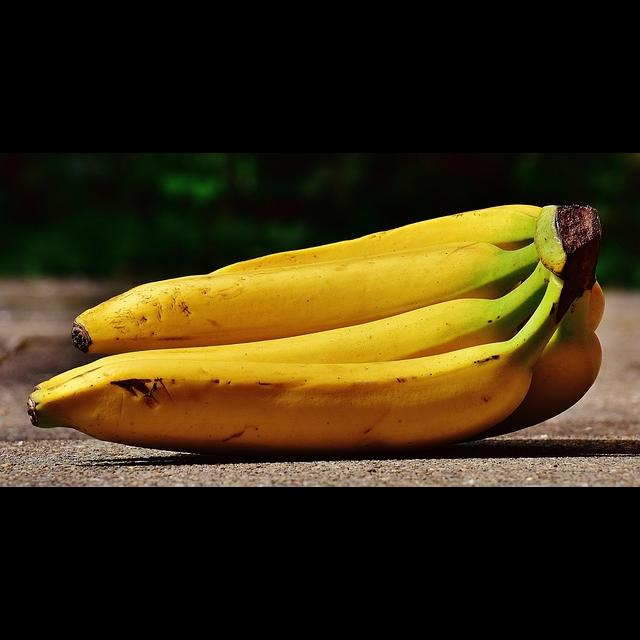banana: (30, 346, 554, 463), (22, 293, 502, 410), (60, 221, 507, 344), (203, 200, 584, 281)
